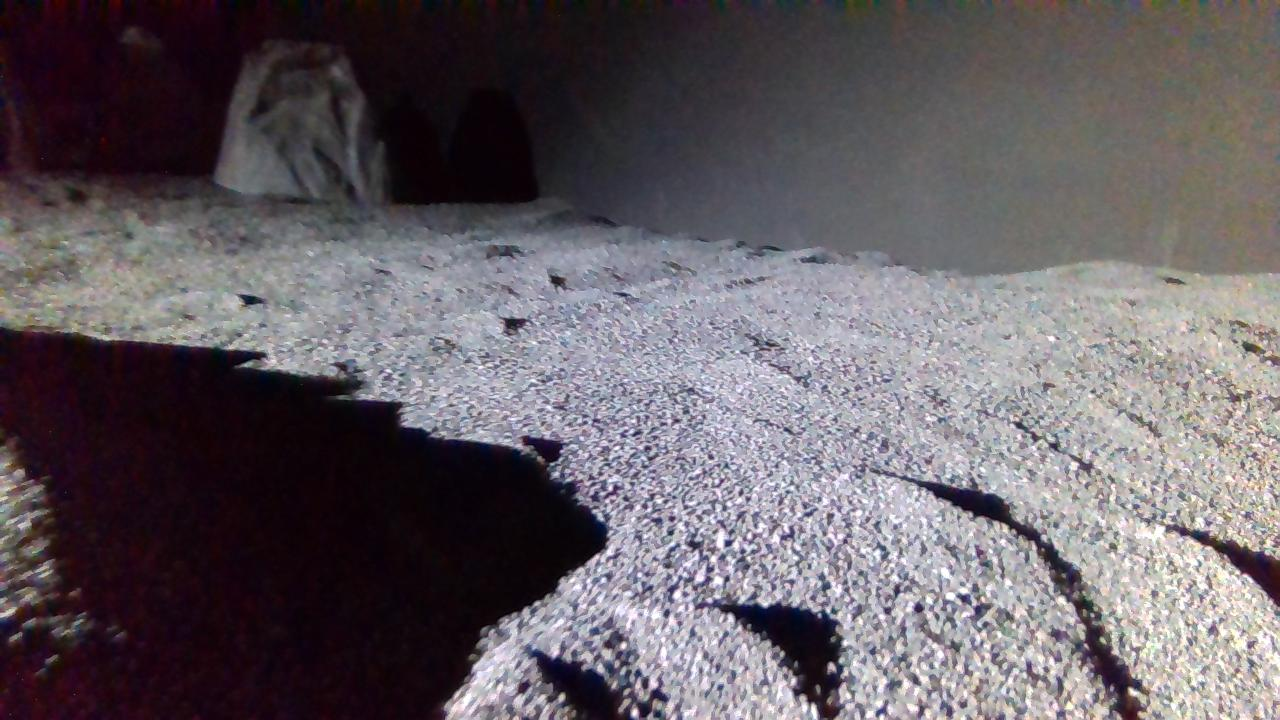rock: (213, 39, 384, 204)
